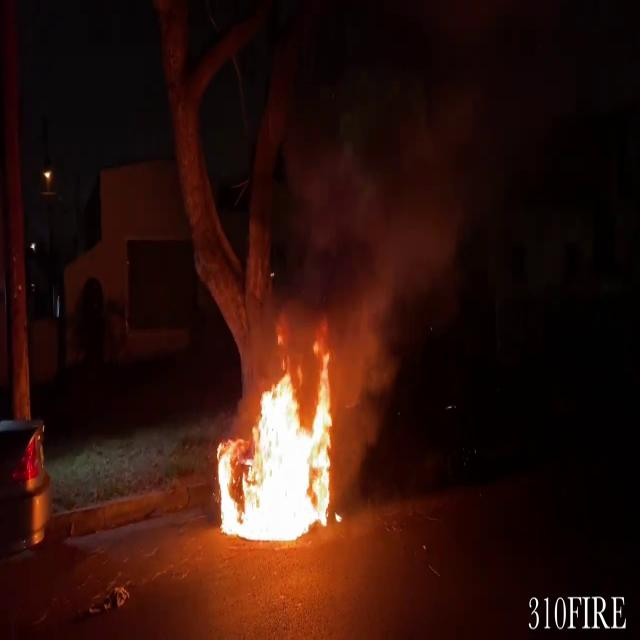Fire: (212, 336, 347, 548)
Smoke: (268, 41, 510, 381)
